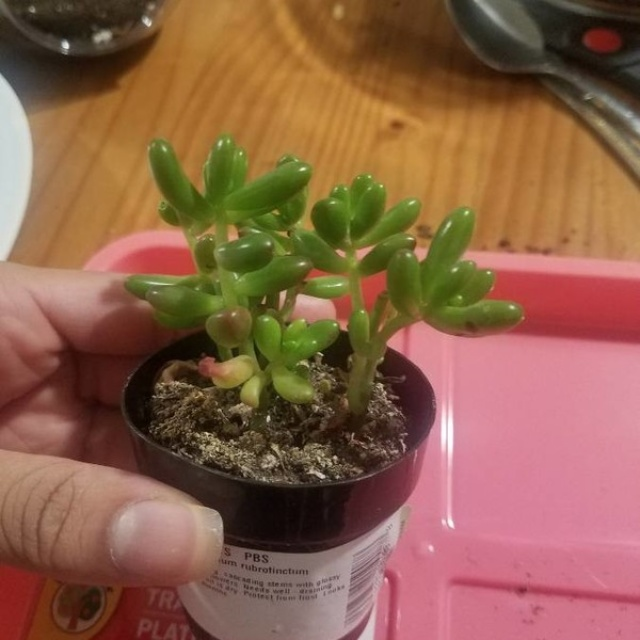obstacle: (108, 125, 516, 627)
